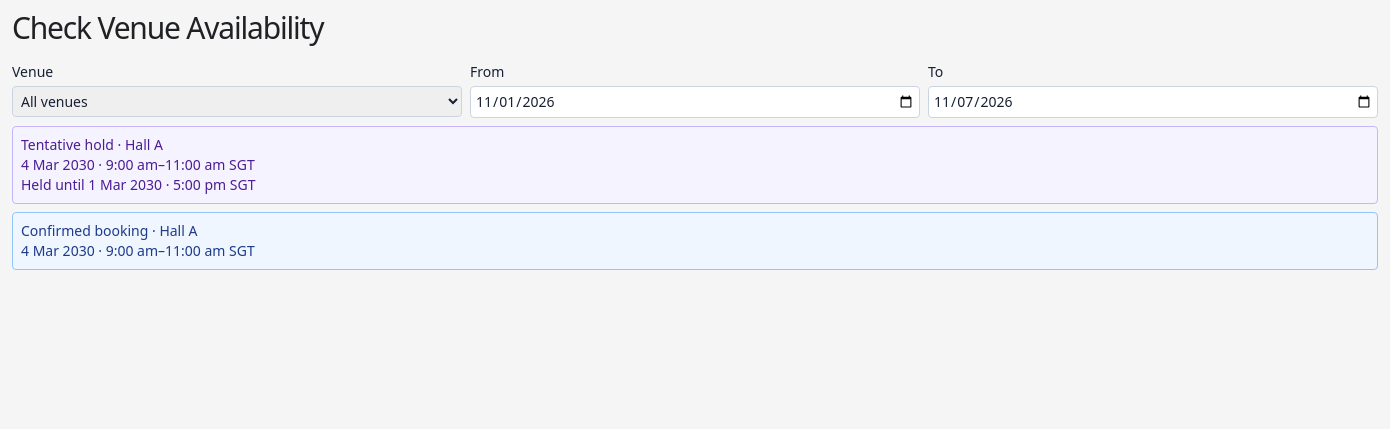
Test: SCRUM-83 AC2: the calendar labels a hold Tentative and says until when
The width and height of the screenshot is (1390, 429).
Expected: the button "Confirmed booking · Hall A4 Mar 2030 · 9:00 am–11:00 am SGT" does not show "Held until", [12,212,1378,270]
What coordinates should you click on to do the following:
click the button "Tentative hold"
I would click on:
 (67, 144)
Its box is [12,126,1378,204].
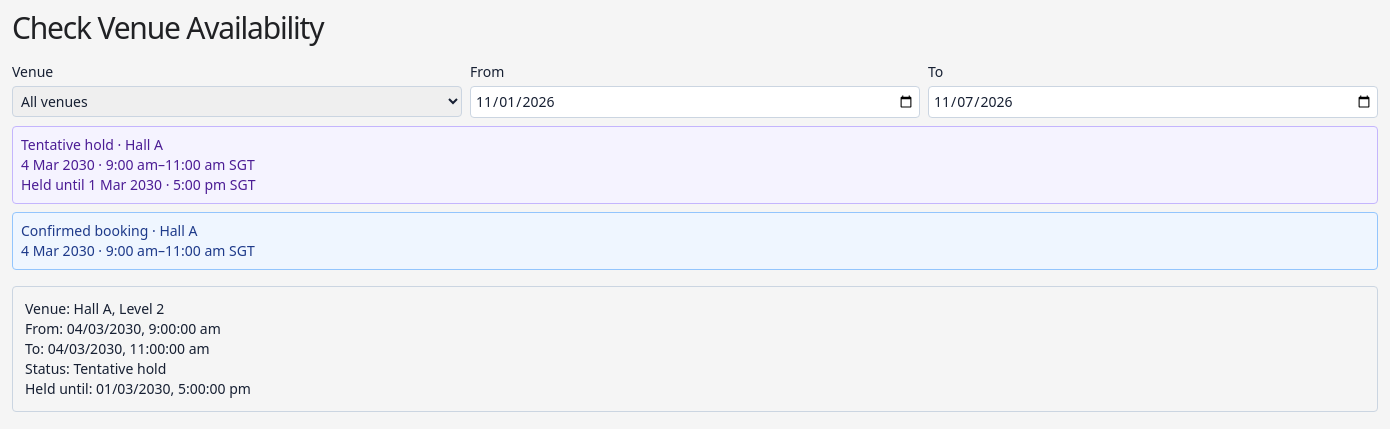
Expected: the element named "Entry details" shows "Tentative hold", [73,359,166,378]
